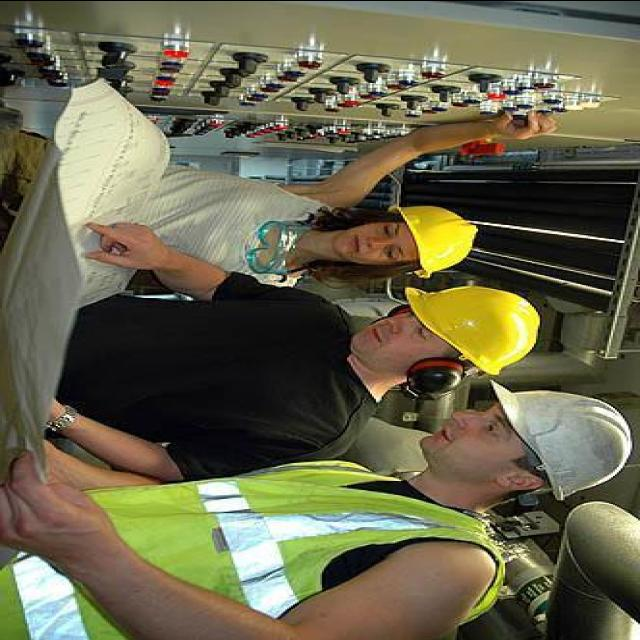helmet: (482, 379, 640, 505), (410, 276, 548, 386), (395, 189, 486, 275)
jacket: (14, 449, 506, 640)
